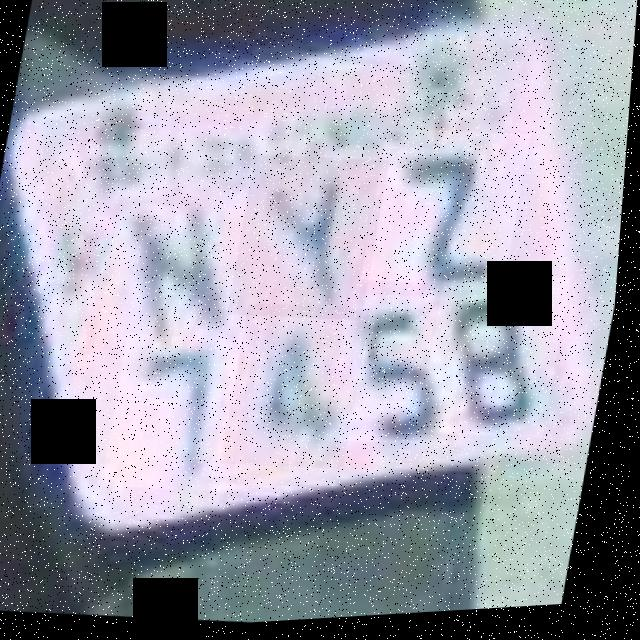4: (226, 301, 376, 479)
5: (330, 291, 478, 457)
7: (107, 329, 260, 501)
8: (423, 272, 576, 451)
N: (99, 184, 260, 360)
Y: (231, 151, 393, 331)
Z: (364, 126, 533, 300)
